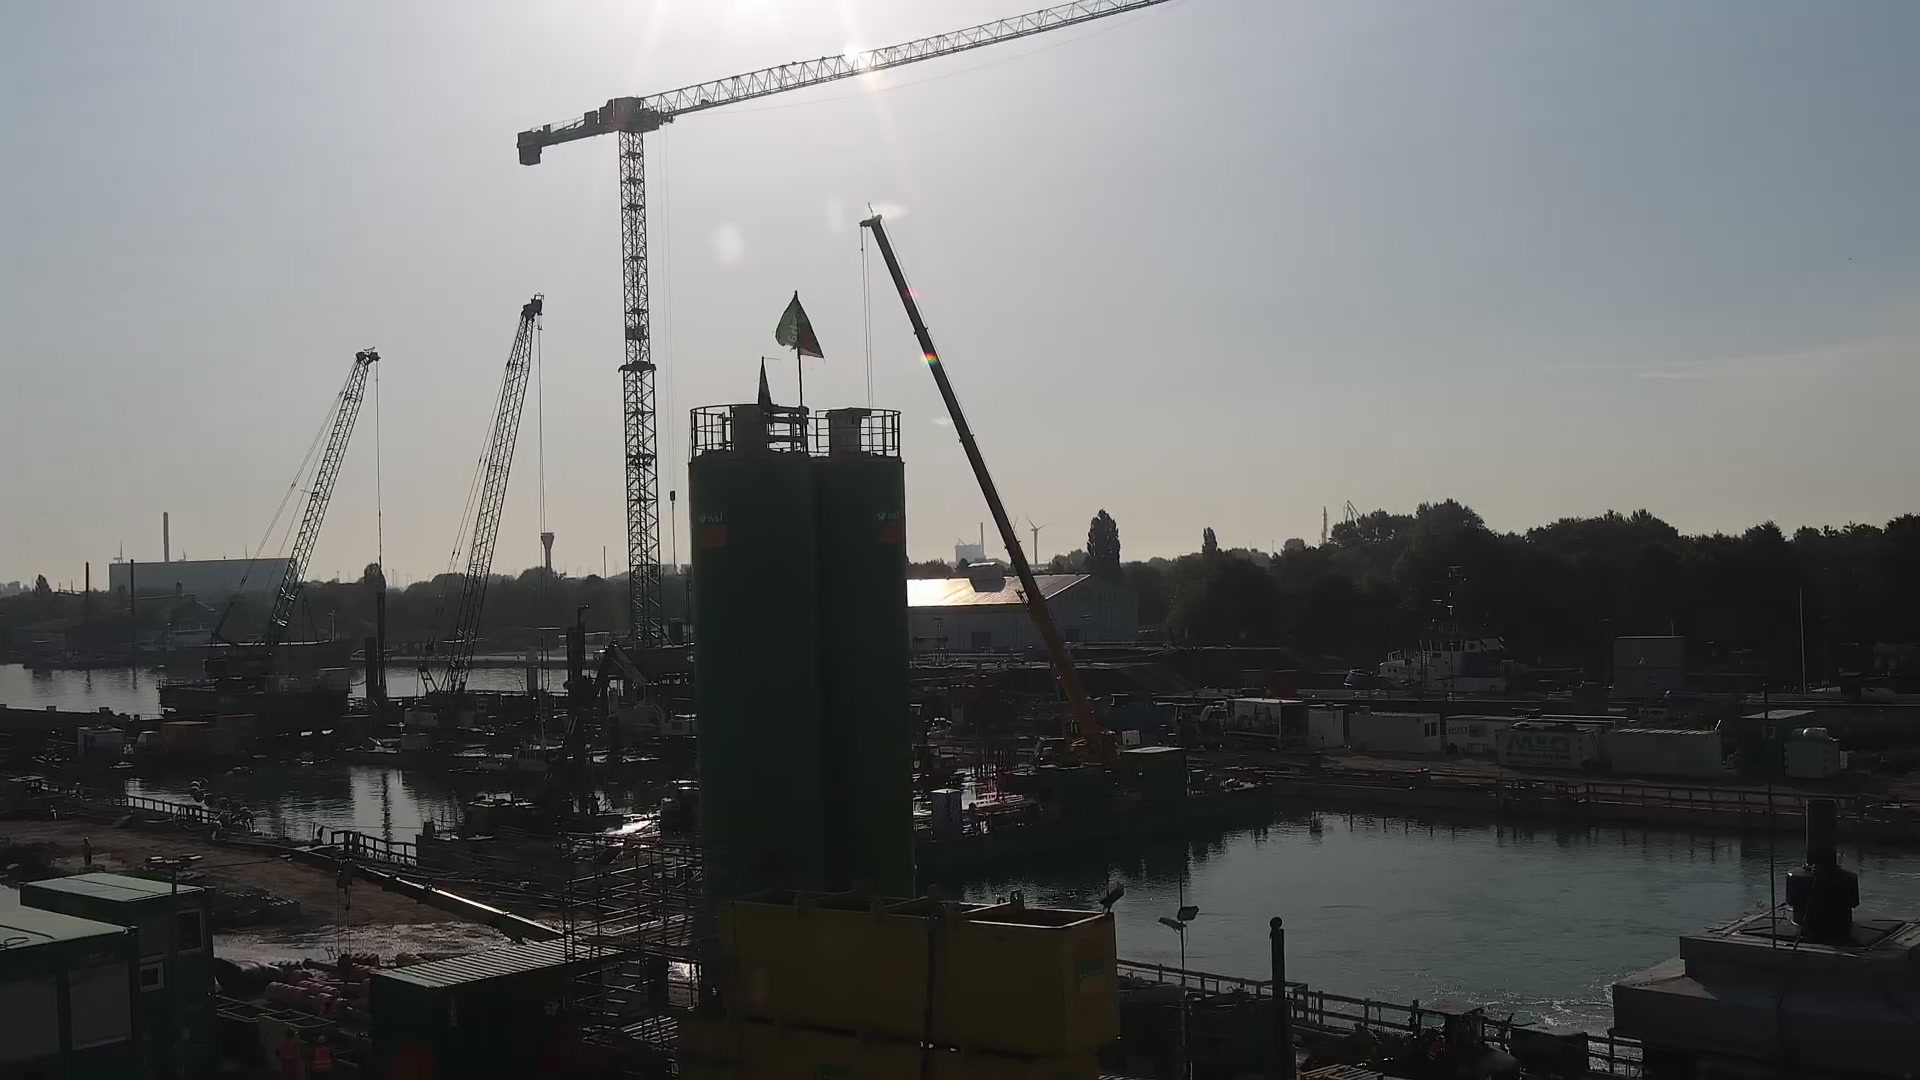sea: (1342, 563, 1586, 691), (475, 687, 570, 775)
